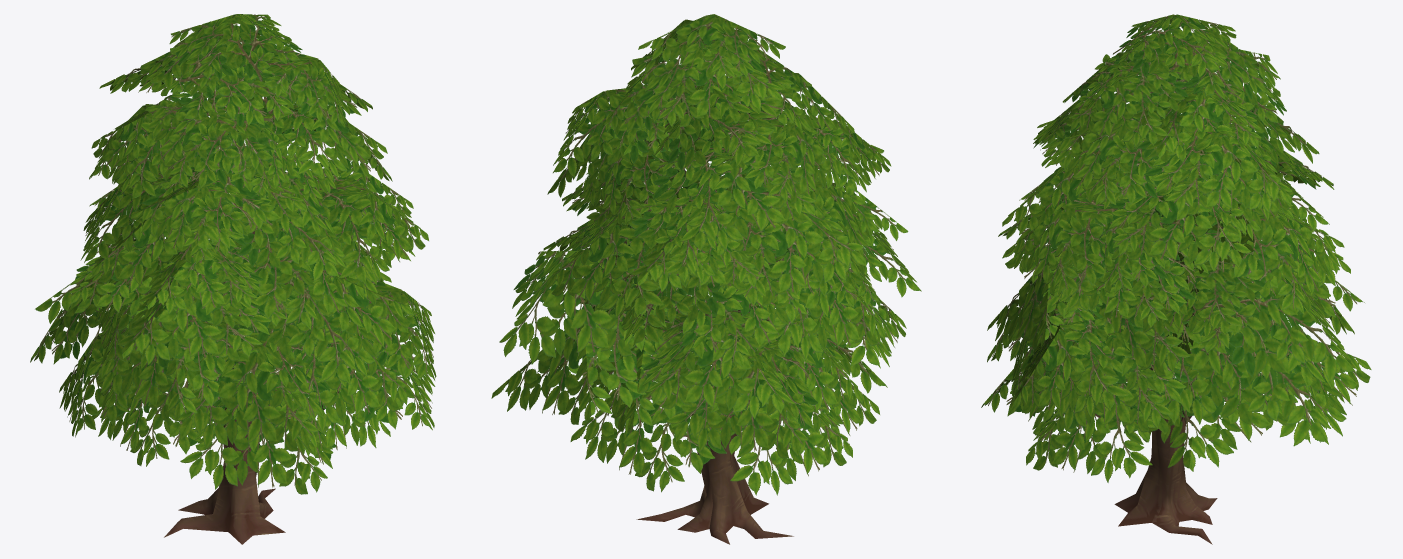
The model's file is jy_dashu01.FBX.
The picture shows the model from 3 angles, left to right: view 1: azimuth 30°, elevation 25°; view 2: azimuth 150°, elevation 25°; view 3: azimuth 270°, elevation 25°; orthographic projection.
Parts seen in each view (by area): view 1: jy_dashu01; view 2: jy_dashu01; view 3: jy_dashu01.
Part boxes in pixels (left/top/right/bottom): jy_dashu01: left=30, top=14, right=436, bottom=544; jy_dashu01: left=491, top=14, right=921, bottom=544; jy_dashu01: left=981, top=14, right=1371, bottom=544.
Bounding box in the file's own units: 634 × 832 × 638.
Materials: 2 (2 with a texture image).
